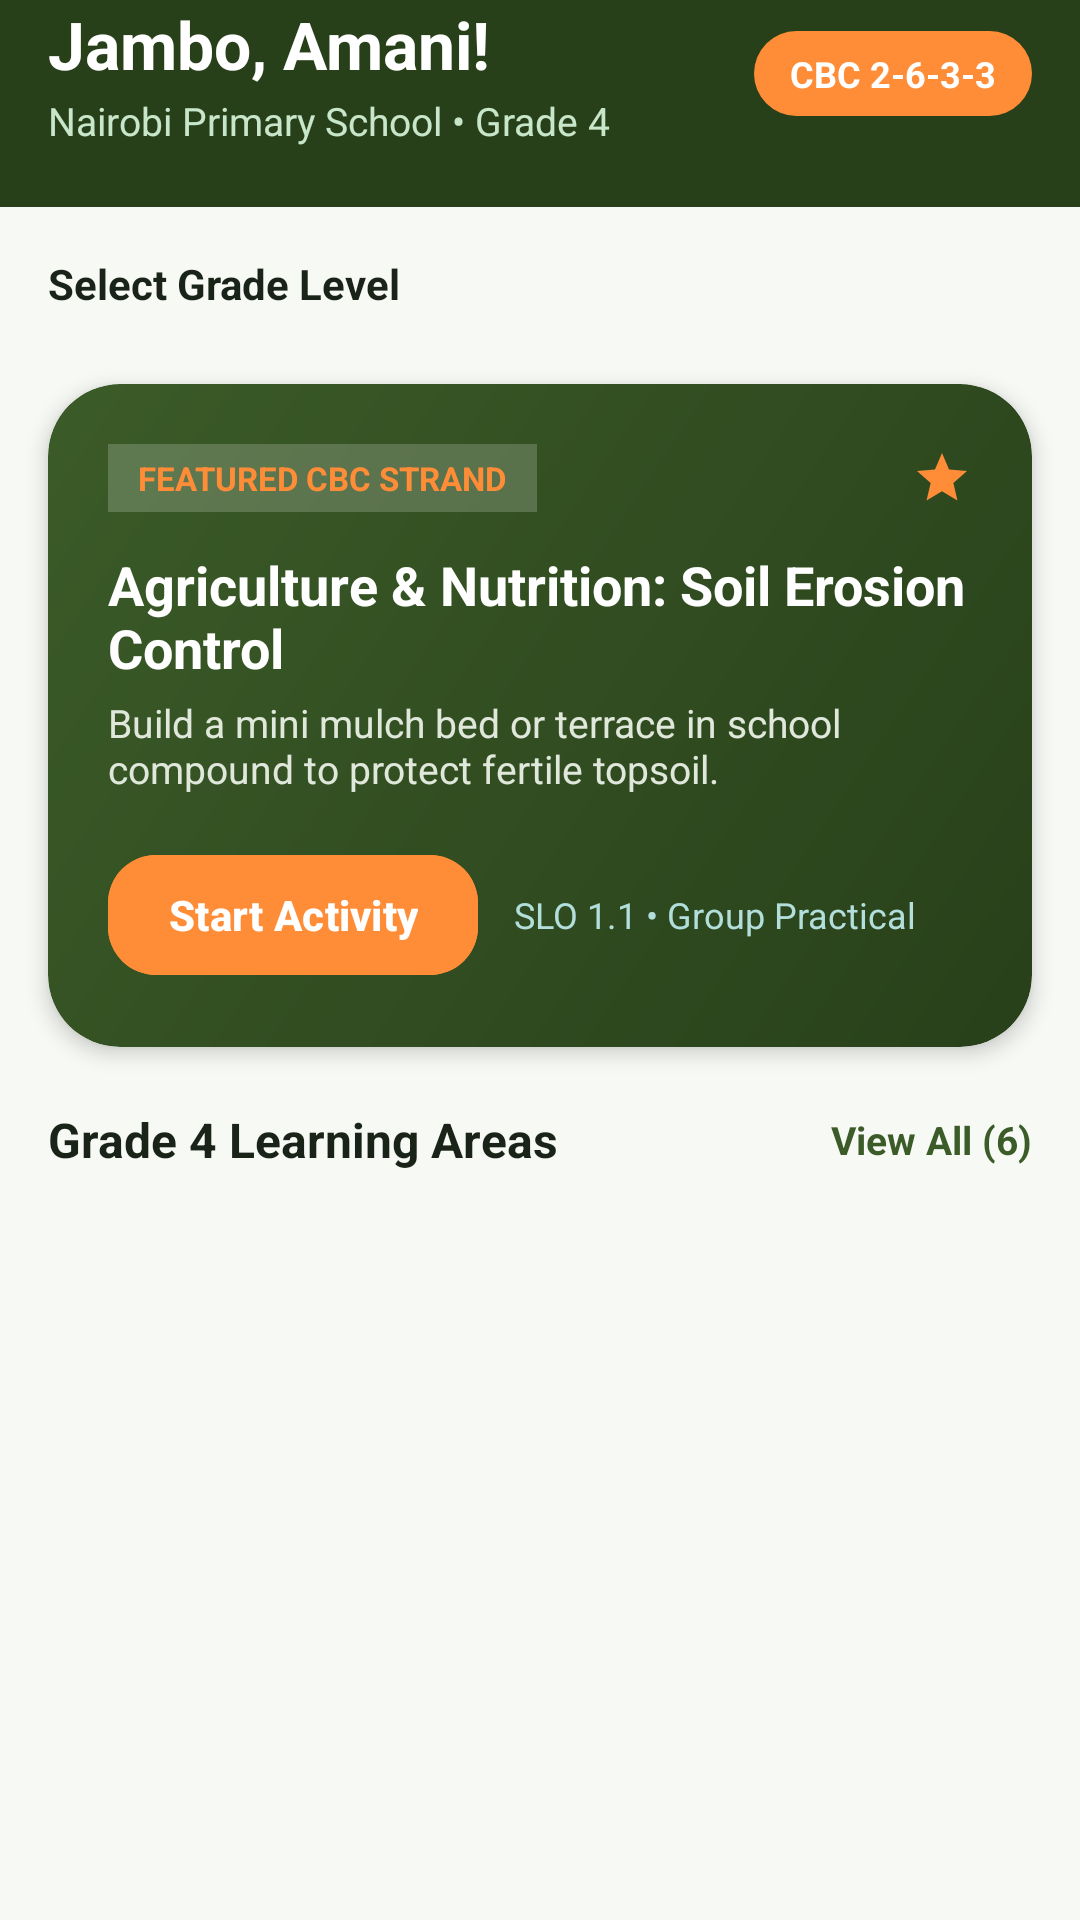

Icon bounding boxes for this 1080px x 1920px phone screenshot, format (x1, y1, x2, y2):
Star: (917, 453, 967, 501)
